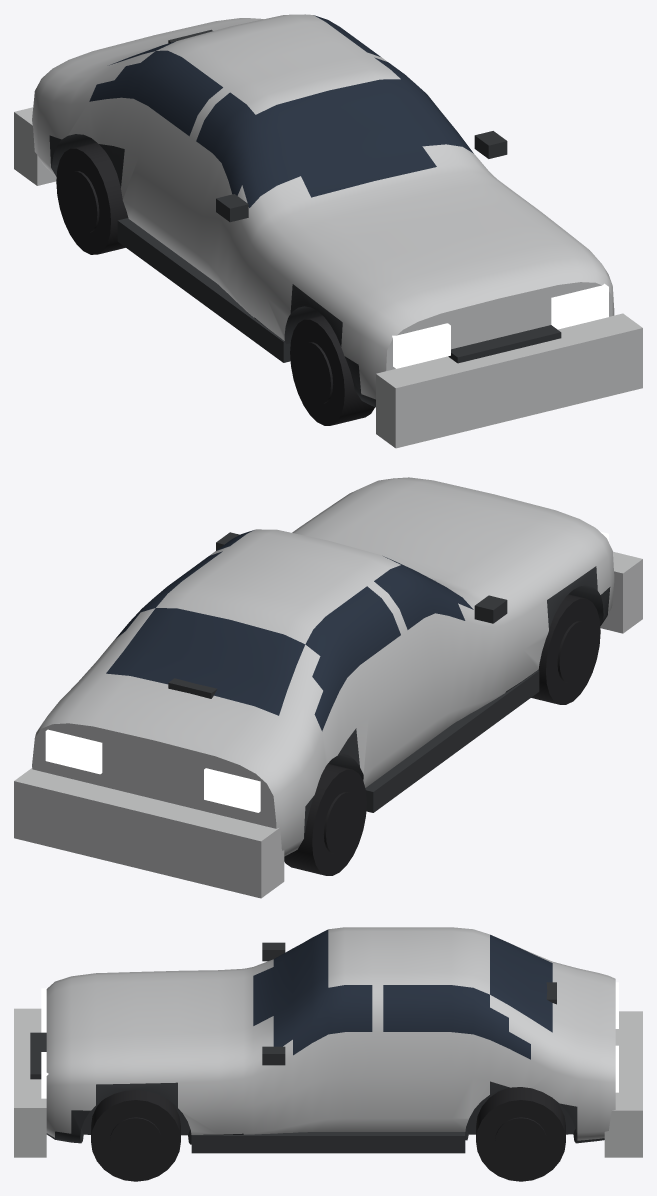
File: car.glb
The picture shows the model from 3 angles, top to bottom: view 1: azimuth 30°, elevation 25°; view 2: azimuth 150°, elevation 25°; view 3: azimuth 270°, elevation 25°; orthographic projection. The views are drawn at different scales.
Visible parts, largest first — view 1: Body, Bumpers, TrimParts, Wheel_RL, Wheel_FL, Lights; view 2: Body, Bumpers, TrimParts, Wheel_RL, Wheel_FL, Lights; view 3: Body, Bumpers, TrimParts, Wheel_RR, Wheel_FR, Lights.
Boxes of the visible parts, x1=… form: Body: x1=32, y1=14, x2=614, y2=407; Bumpers: x1=14, y1=107, x2=642, y2=448; TrimParts: x1=117, y1=29, x2=561, y2=363; Wheel_RL: x1=56, y1=142, x2=128, y2=254; Wheel_FL: x1=290, y1=315, x2=374, y2=425; Lights: x1=392, y1=283, x2=608, y2=368; Body: x1=32, y1=477, x2=614, y2=856; Bumpers: x1=14, y1=551, x2=642, y2=898; TrimParts: x1=168, y1=532, x2=539, y2=812; Wheel_RL: x1=284, y1=763, x2=366, y2=875; Wheel_FL: x1=531, y1=594, x2=600, y2=704; Lights: x1=45, y1=531, x2=608, y2=812; Body: x1=46, y1=927, x2=615, y2=1144; Bumpers: x1=14, y1=1008, x2=642, y2=1157; TrimParts: x1=30, y1=942, x2=556, y2=1153; Wheel_RR: x1=476, y1=1087, x2=565, y2=1181; Wheel_FR: x1=91, y1=1090, x2=180, y2=1181; Lights: x1=41, y1=982, x2=618, y2=1098.
Bounding box in the file's own units: 1.93 × 1.45 × 4.6.
5 materials, 1 textured.
